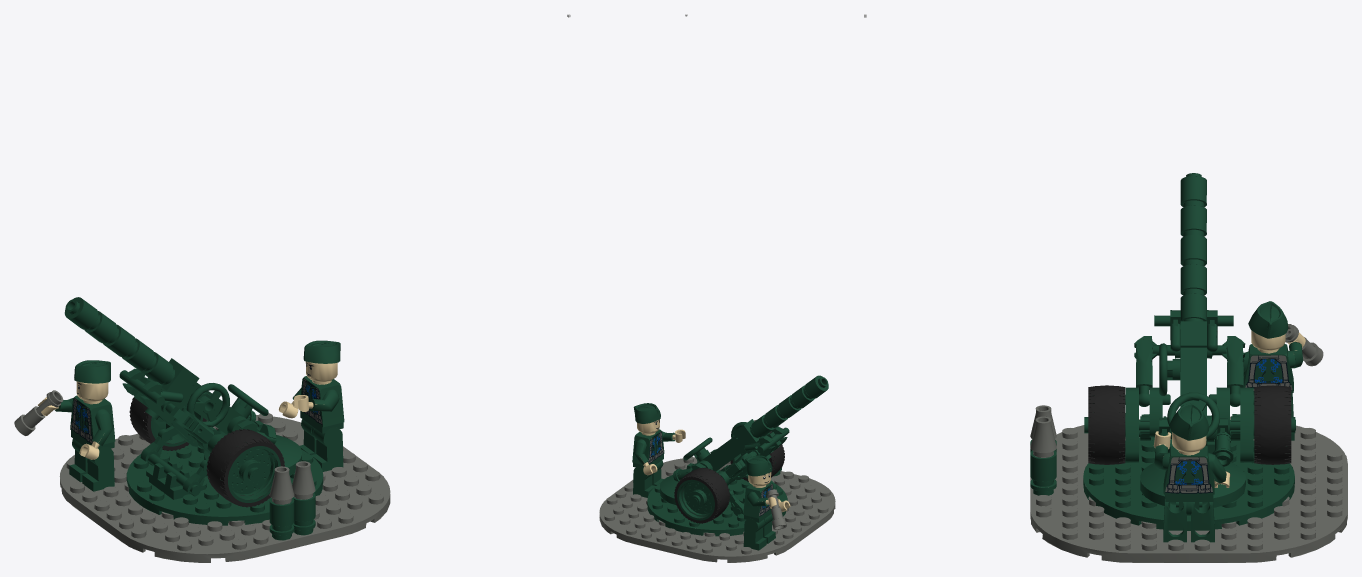
3 renders of one model, left to right at view 1: azimuth 30°, elevation 25°; view 2: azimuth 150°, elevation 25°; view 3: azimuth 270°, elevation 25°, orthographic. The views are drawn at different scales.
Parts seen in each view (by area): view 1: 迫击炮（基础款）; view 2: 迫击炮（基础款）; view 3: 迫击炮（基础款）.
Part boxes in pixels (box(x1,y1,x2,y2)): 迫击炮（基础款）: box(14, 297, 390, 562); 迫击炮（基础款）: box(599, 375, 835, 562); 迫击炮（基础款）: box(1030, 173, 1347, 562).
Size of the model in its own units: 330 by 486 by 366.
